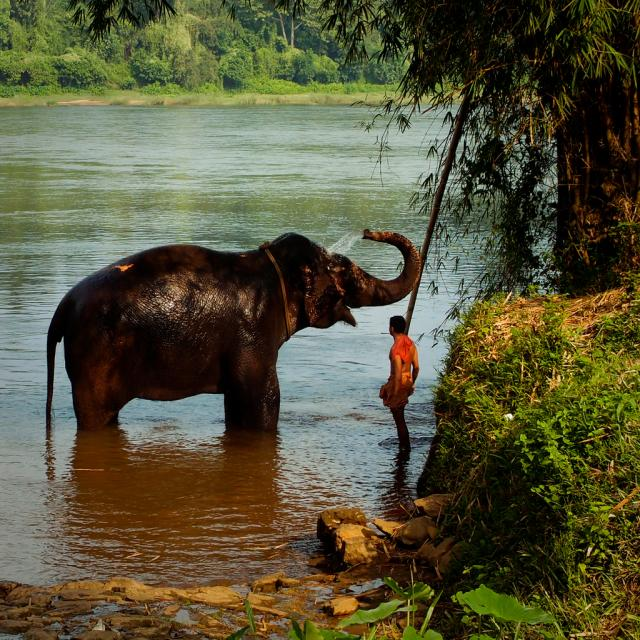elephant: (38, 219, 436, 444)
